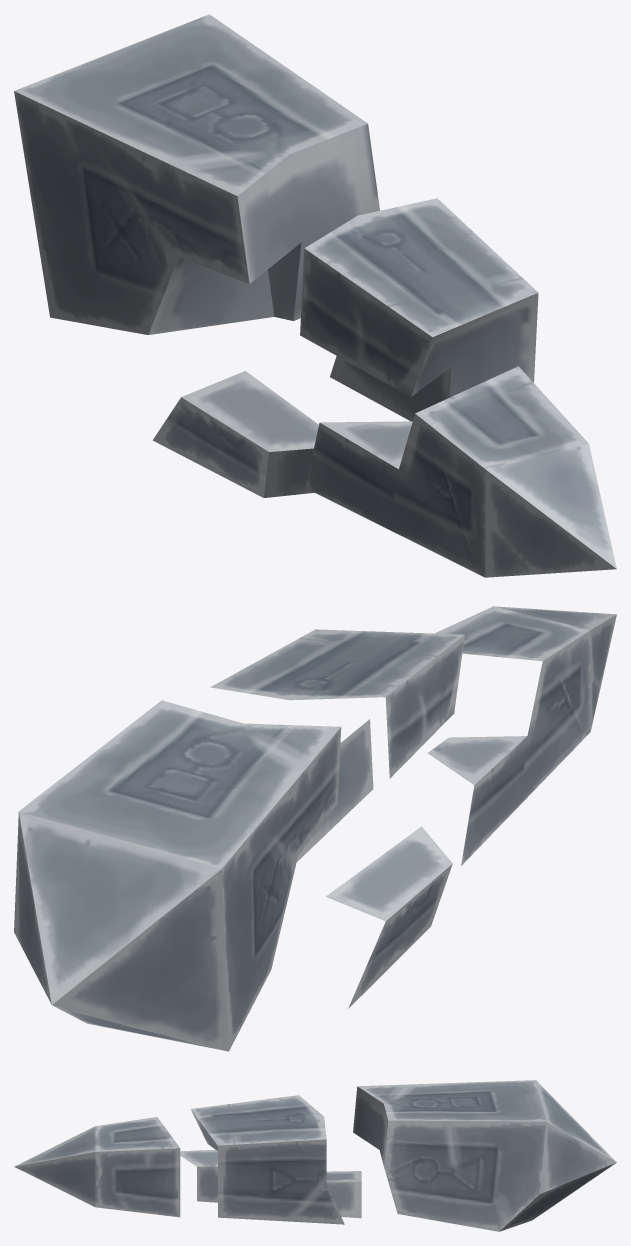
The model's file is obelisk_05.glb.
3 renders of one model, top to bottom at view 1: azimuth 30°, elevation 25°; view 2: azimuth 150°, elevation 25°; view 3: azimuth 270°, elevation 25°, orthographic. The views are drawn at different scales.
Parts seen in each view (by area): view 1: obsidian_obelisk.chunk_01-MeshNodes["chunk_01"], obsidian_obelisk.chunk_04-MeshNodes["chunk_04"], obsidian_obelisk.chunk_03-MeshNodes["chunk_03"], obsidian_obelisk.chunk_02-MeshNodes["chunk_02"]; view 2: obsidian_obelisk.chunk_01-MeshNodes["chunk_01"], obsidian_obelisk.chunk_04-MeshNodes["chunk_04"], obsidian_obelisk.chunk_03-MeshNodes["chunk_03"], obsidian_obelisk.chunk_02-MeshNodes["chunk_02"]; view 3: obsidian_obelisk.chunk_01-MeshNodes["chunk_01"], obsidian_obelisk.chunk_03-MeshNodes["chunk_03"], obsidian_obelisk.chunk_04-MeshNodes["chunk_04"], obsidian_obelisk.chunk_02-MeshNodes["chunk_02"].
Boxes of the visible parts, x1,y1,x2,y2 form: obsidian_obelisk.chunk_01-MeshNodes["chunk_01"]: [14, 14, 379, 334]; obsidian_obelisk.chunk_04-MeshNodes["chunk_04"]: [305, 366, 616, 577]; obsidian_obelisk.chunk_03-MeshNodes["chunk_03"]: [300, 198, 538, 421]; obsidian_obelisk.chunk_02-MeshNodes["chunk_02"]: [152, 371, 318, 497]; obsidian_obelisk.chunk_01-MeshNodes["chunk_01"]: [14, 700, 341, 1051]; obsidian_obelisk.chunk_04-MeshNodes["chunk_04"]: [428, 606, 616, 865]; obsidian_obelisk.chunk_03-MeshNodes["chunk_03"]: [210, 629, 464, 861]; obsidian_obelisk.chunk_02-MeshNodes["chunk_02"]: [326, 826, 452, 1008]; obsidian_obelisk.chunk_01-MeshNodes["chunk_01"]: [353, 1080, 616, 1231]; obsidian_obelisk.chunk_03-MeshNodes["chunk_03"]: [191, 1095, 344, 1224]; obsidian_obelisk.chunk_04-MeshNodes["chunk_04"]: [14, 1117, 217, 1217]; obsidian_obelisk.chunk_02-MeshNodes["chunk_02"]: [326, 1171, 361, 1218].
Bounding box in the file's own units: 0.8406 × 0.9418 × 3.7.
1 material, 1 textured.
